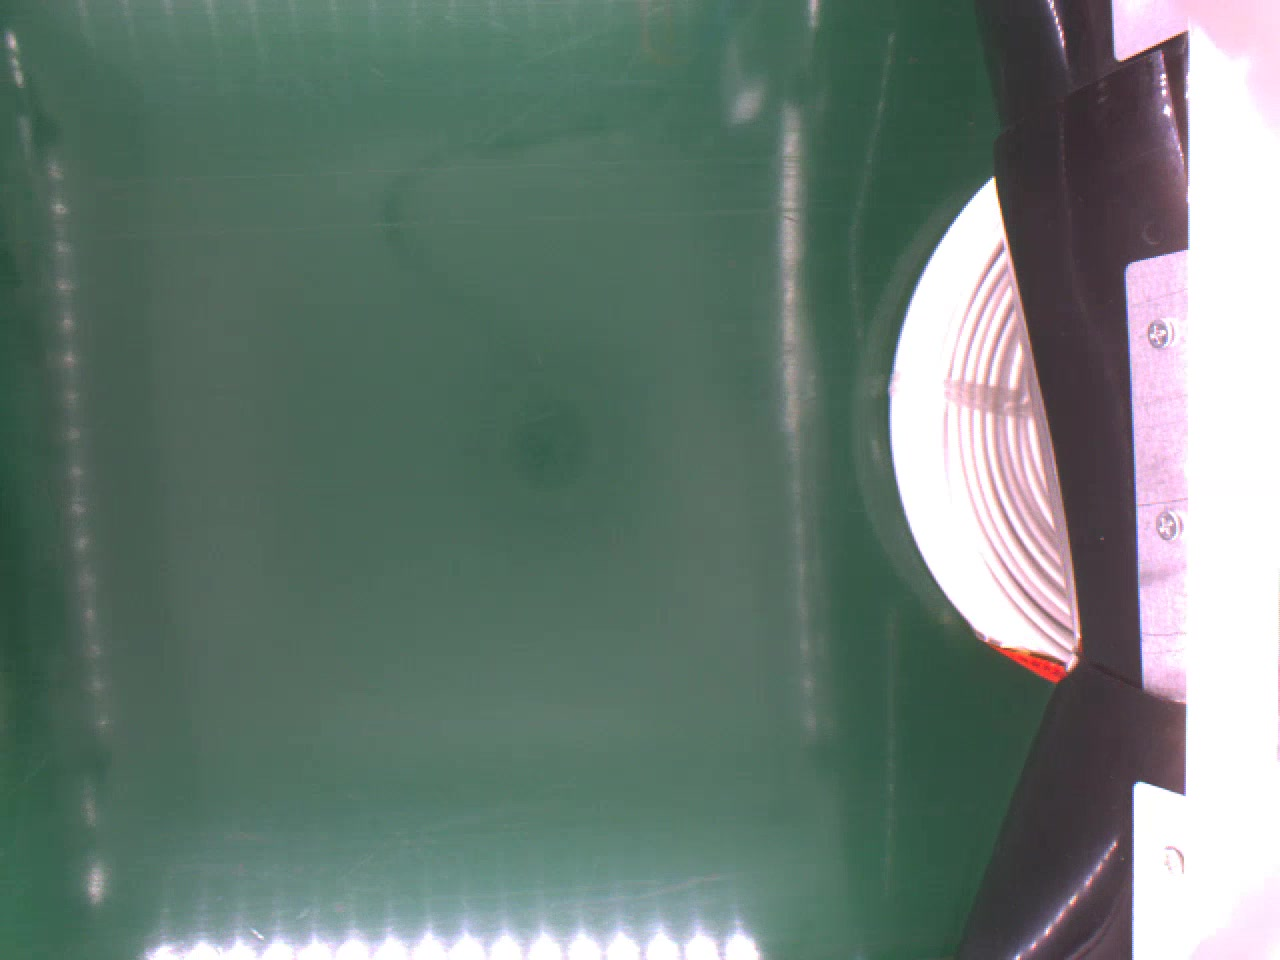white: (884, 173, 1077, 676)
